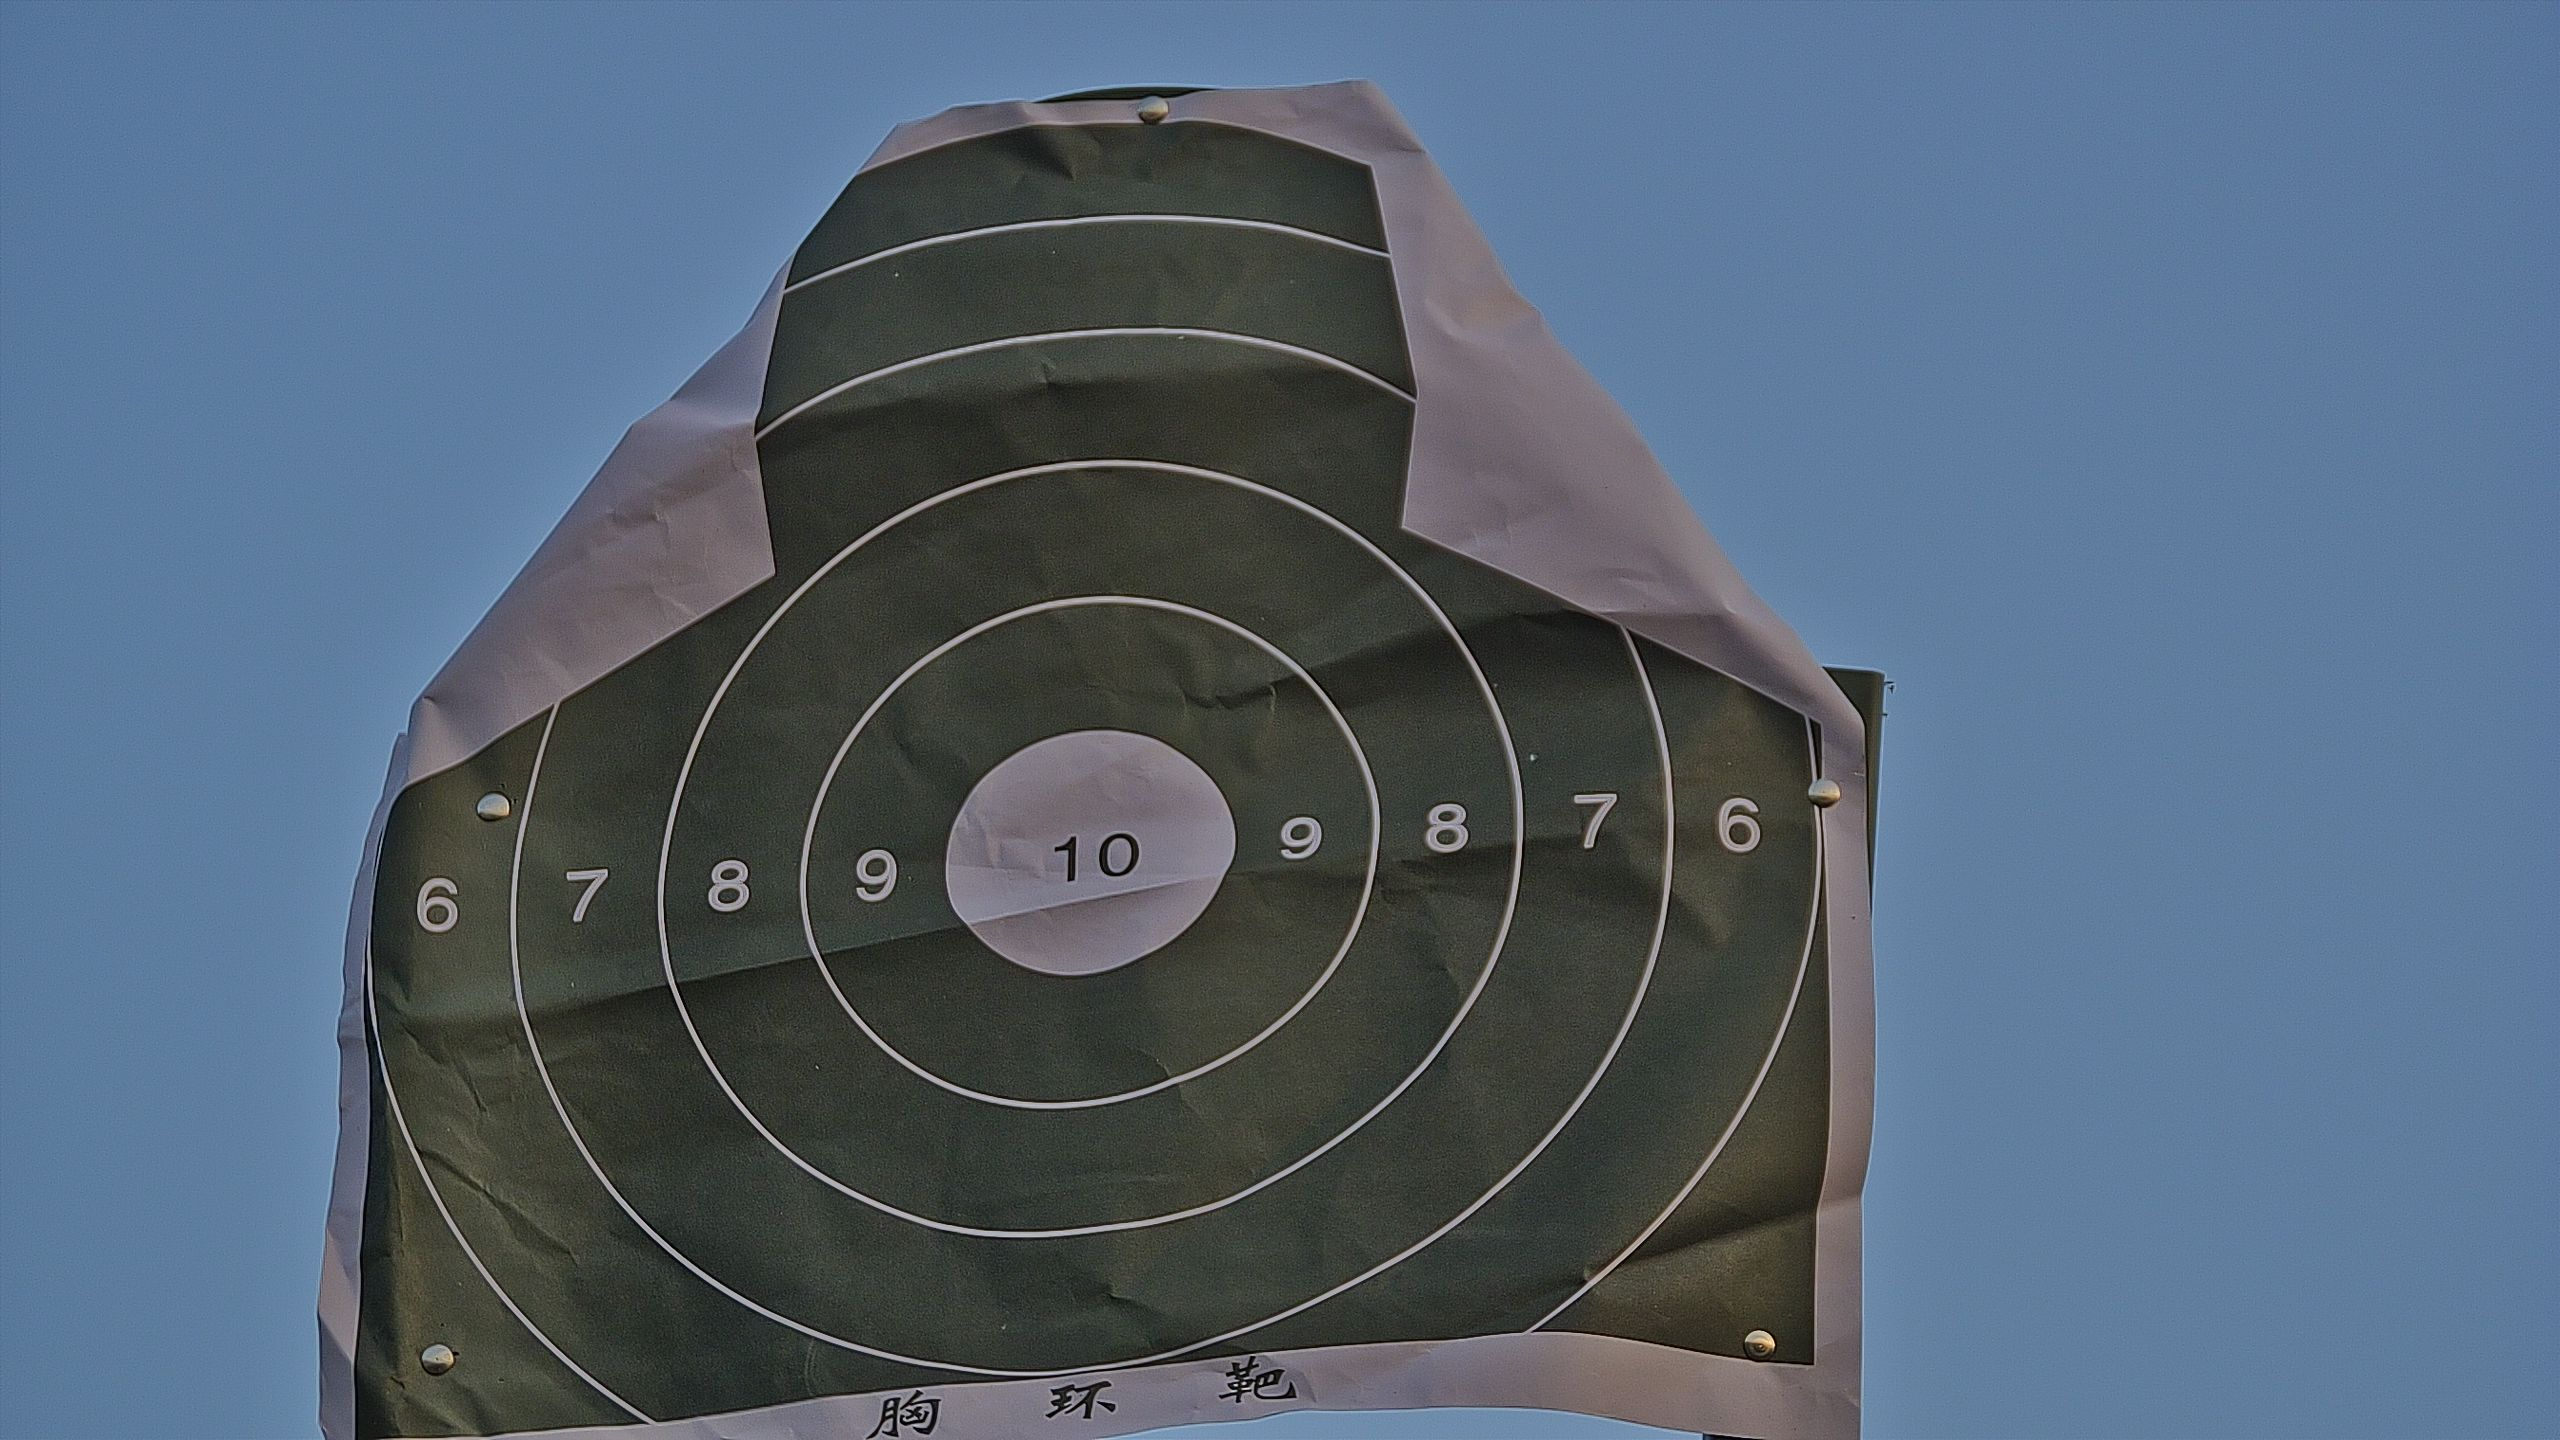kernel: (1083, 856, 1090, 863)
target: (348, 128, 1829, 1440)
ten: (939, 731, 1238, 976)
